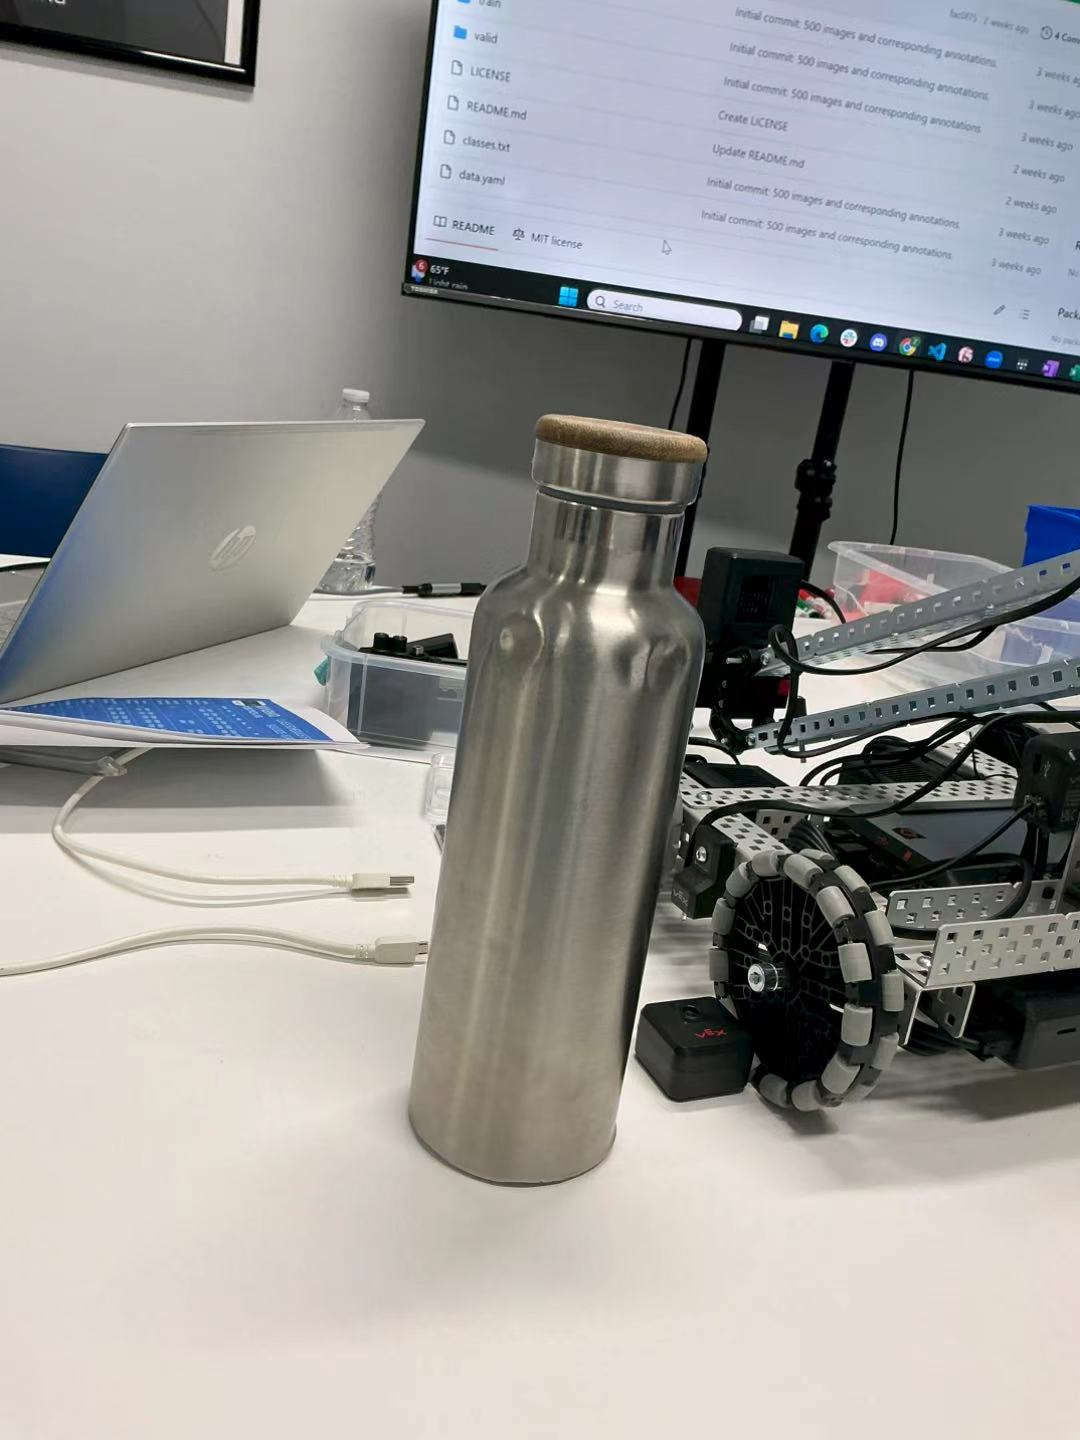Water_Bottle: (428, 400, 703, 1195)
